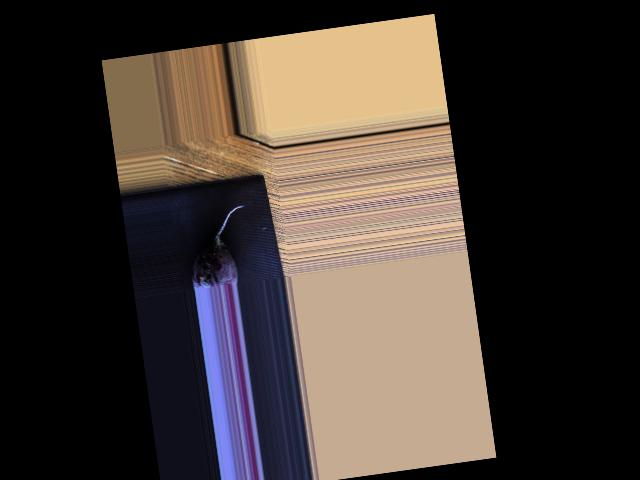beet: (182, 204, 254, 289)
